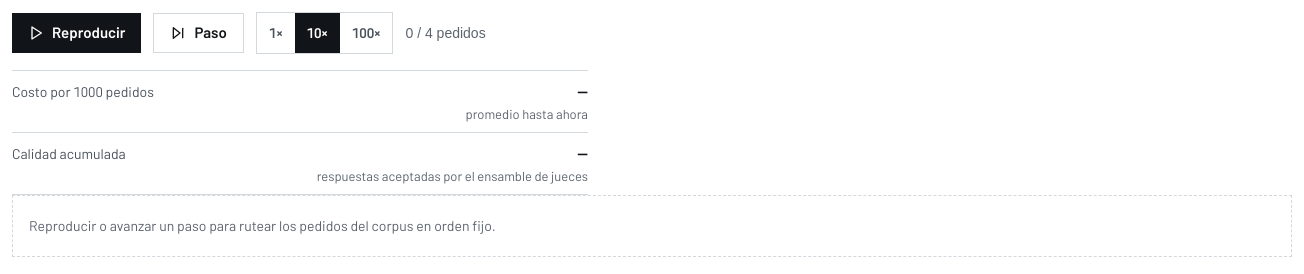
it: ReplayFeed › routes one prompt per step and keeps running totals
Expected: the text "0 / 4 pedidos" is shown, [406, 23, 486, 43]
Click the button "Paso" at (199, 33), box [153, 13, 244, 53]
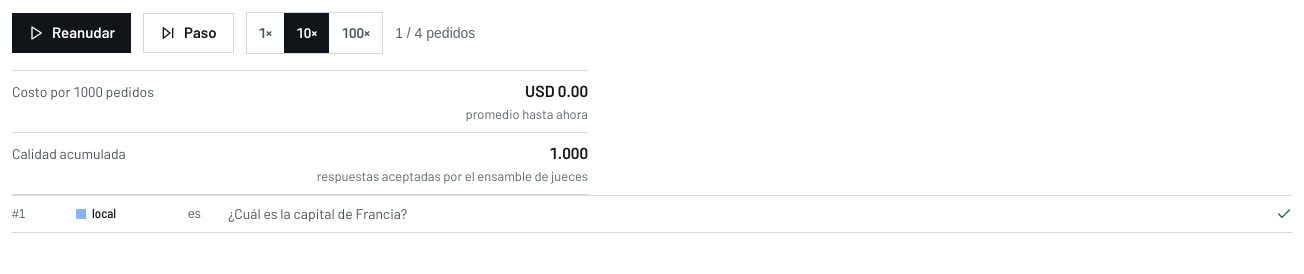
Result: the text "1 / 4 pedidos" is shown at [395, 23, 475, 43]
Result: the text "local" is shown at [76, 205, 116, 221]
Result: the picture named "suficiente" is shown at [1276, 206, 1292, 222]
